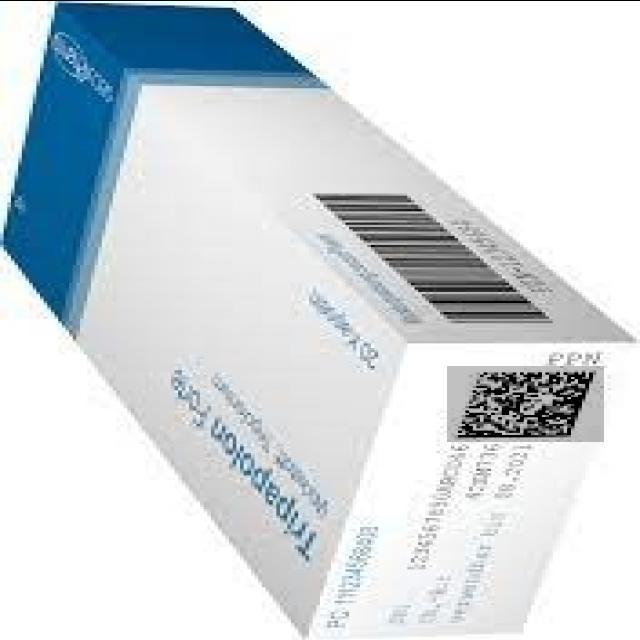Data-Matrix: (447, 365, 604, 441)
